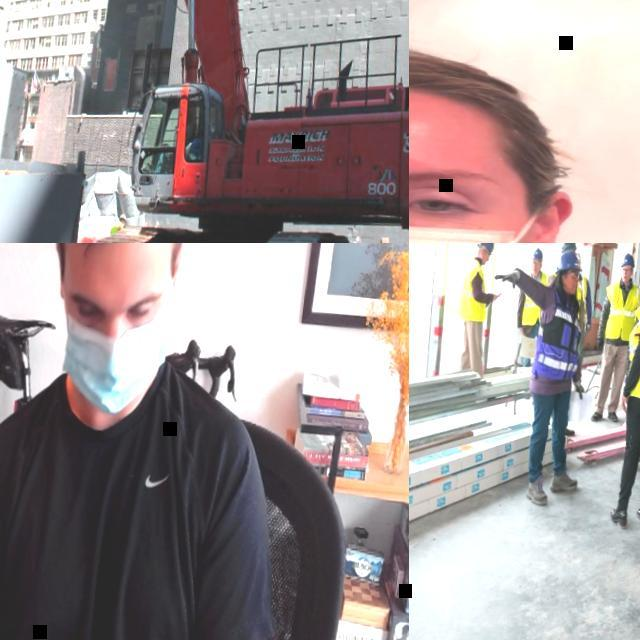helmet: (554, 250, 584, 276), (620, 252, 636, 269), (477, 243, 495, 255), (559, 243, 577, 254), (530, 247, 544, 261), (574, 249, 582, 260), (120, 214, 128, 223)
vest: (530, 284, 588, 382), (600, 277, 640, 342), (454, 257, 493, 323), (622, 293, 640, 402), (543, 272, 583, 320), (520, 269, 550, 324), (574, 273, 592, 332), (110, 223, 122, 237), (632, 304, 640, 320)
